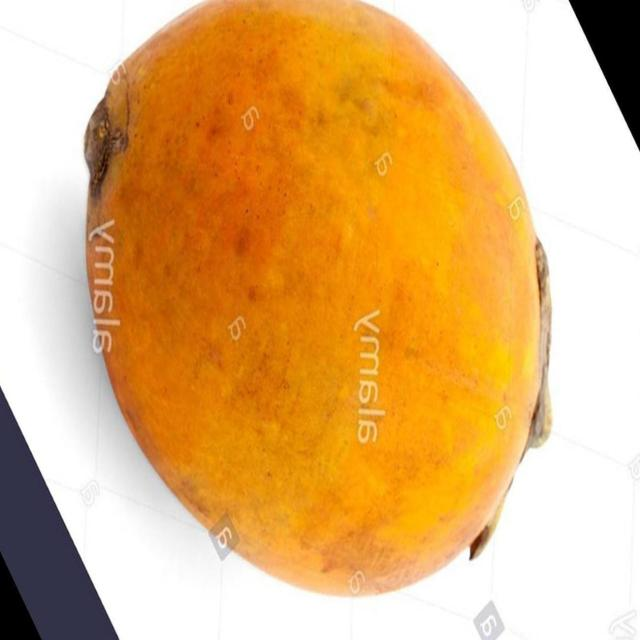good: (82, 0, 550, 601)
